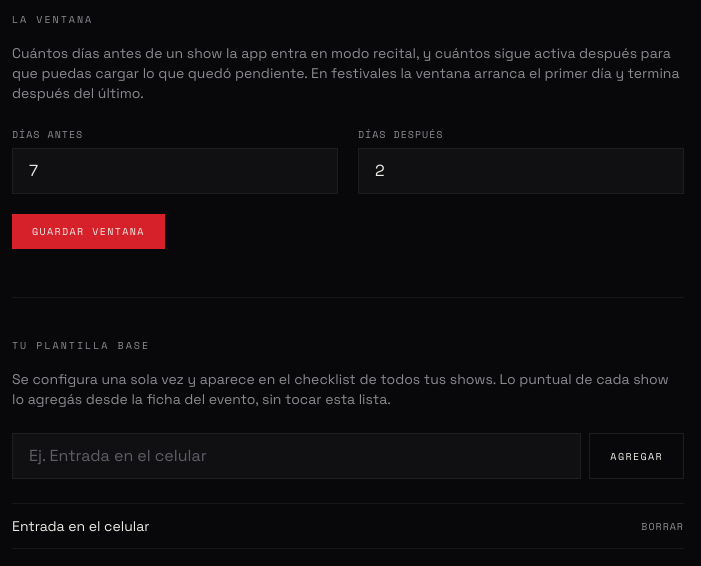
it: ShowModeSettingsForm — la ventana › guarda la ventana nueva
Replace the text in the number field labelled "Días antes" with "14" at (175, 171), box [12,148,338,194]
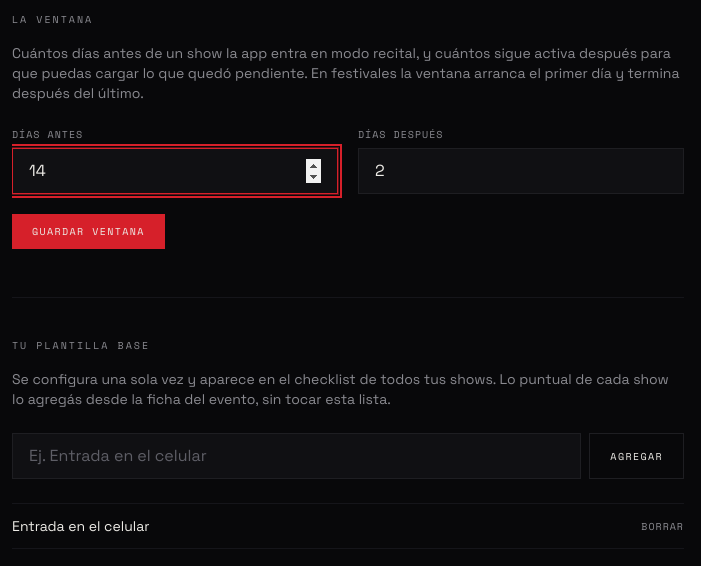
Click the button "Guardar ventana" at (88, 232), box [12,214,165,249]
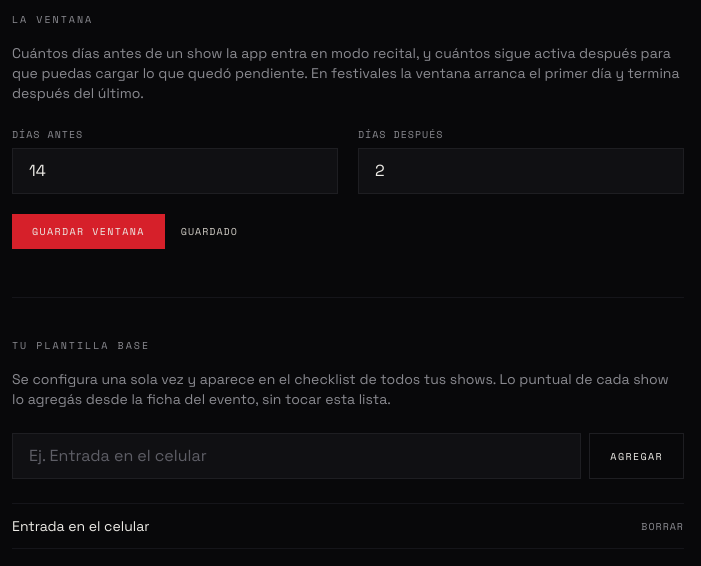
Check: the message reads "Guardado", box [181,224,238,239]
